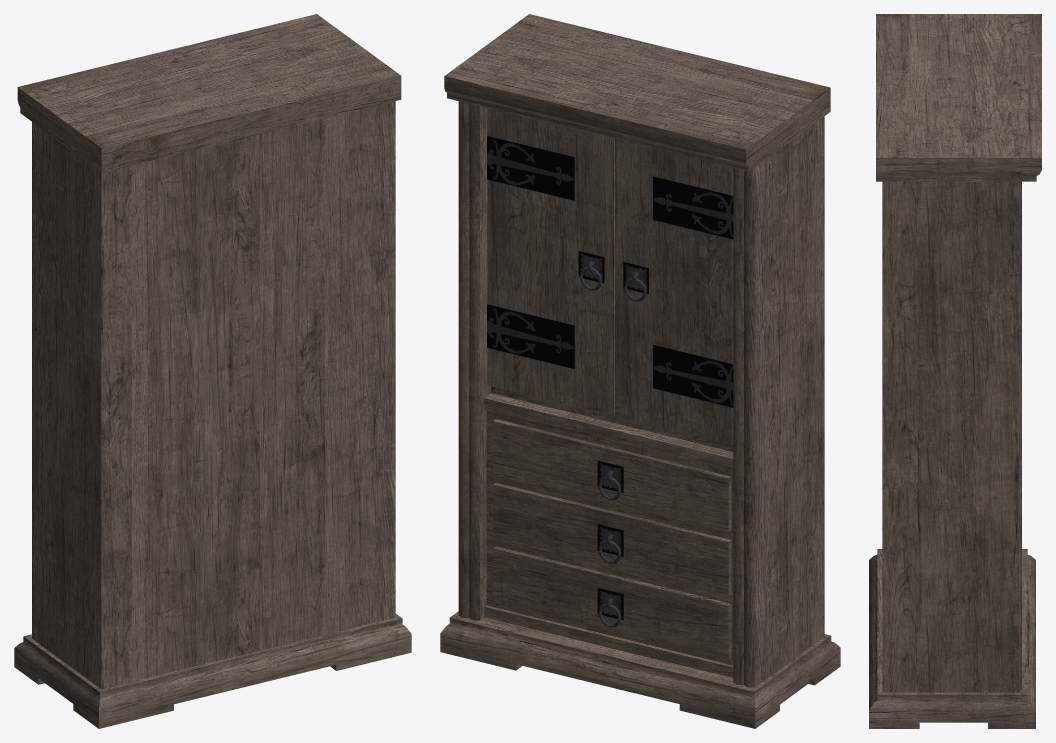
Rendered from mw_wardrobe_04.FBX.
The picture shows the model from 3 angles, left to right: view 1: azimuth 30°, elevation 25°; view 2: azimuth 150°, elevation 25°; view 3: azimuth 270°, elevation 25°; orthographic projection. The views are drawn at different scales.
Parts seen in each view (by area): view 1: mw_wardrobe_04; view 2: mw_wardrobe_04; view 3: mw_wardrobe_04.
Boxes of the visible parts, x1=… form: mw_wardrobe_04: x1=14, y1=14, x2=411, y2=728; mw_wardrobe_04: x1=440, y1=14, x2=840, y2=728; mw_wardrobe_04: x1=869, y1=14, x2=1041, y2=728.
Size of the model in its own units: 151 by 265 by 73.22.
